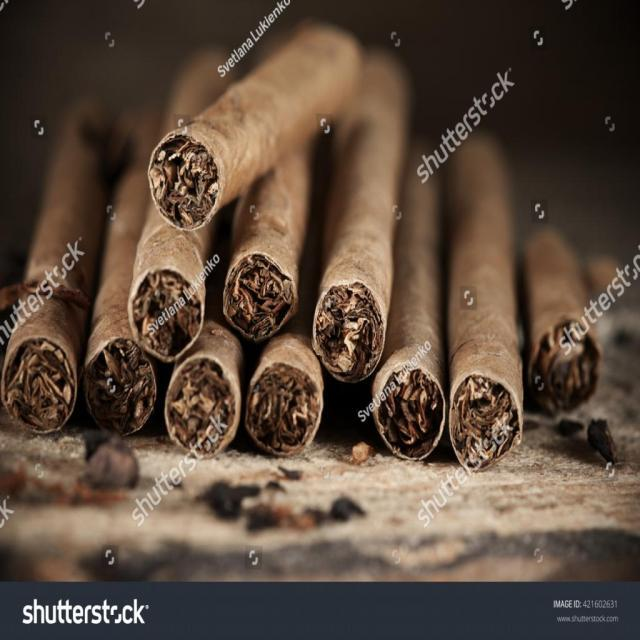smoking: (0, 0, 445, 591)
